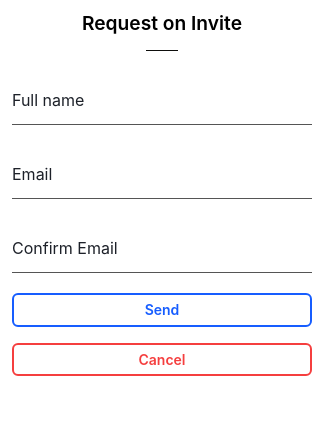
Test: email and confirm email not match should display error message
In the field labelled "Full name": [162, 108] box [12,91,312,125], type "Oliver"
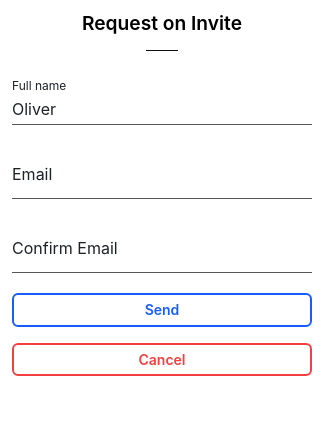
In the field labelled "Email": [162, 182] box [12,165,312,199], type "google@gmail.com"
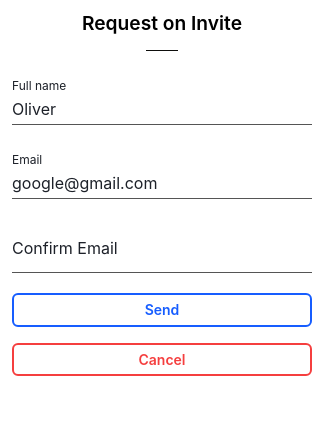
In the field labelled "Confirm Email": [162, 256] box [12,239,312,273], type "g@gmail.com"
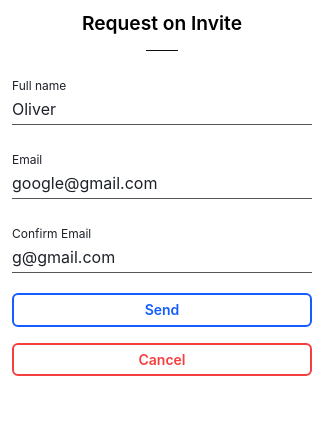
Click the button with test id "submitBtn": [162, 310] box [12,293,312,327]
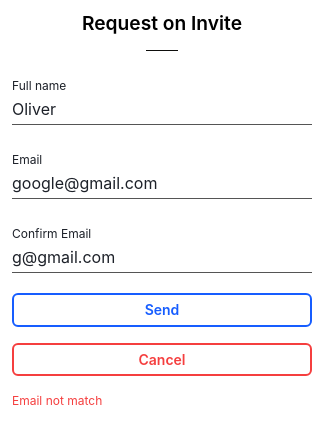
Now the text with test id "errorMsg" reads "Email not match", box [12,393,102,408]
